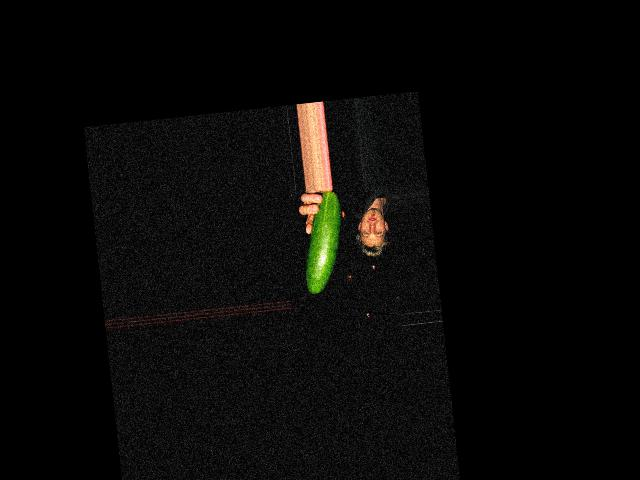cucumber: (296, 191, 348, 294)
